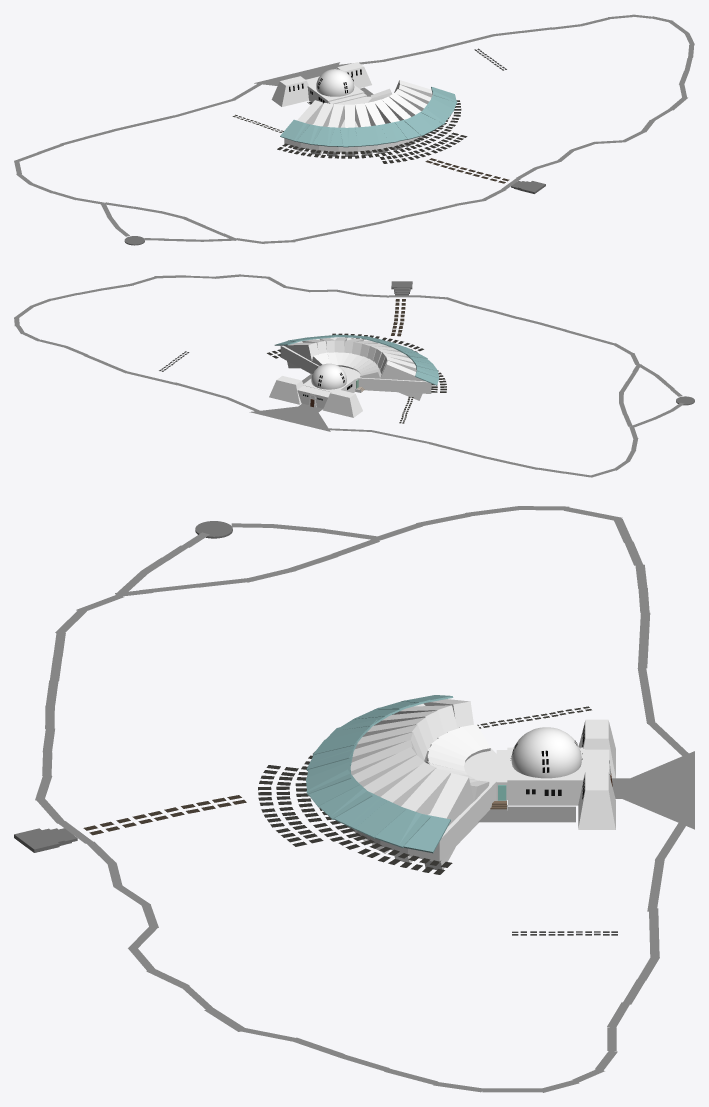
The model's file is asmundarsafn_nyasta_utgafa_8.4_12.58.obj.
3 renders of one model, top to bottom at view 1: azimuth 30°, elevation 25°; view 2: azimuth 150°, elevation 25°; view 3: azimuth 270°, elevation 25°, orthographic. The views are drawn at different scales.
Parts seen in each view (by area): view 1: Plane.001, der_yfir_thaki, thak, gangstett_i_kringum_hring, syningarsalur, Sphere, h_hlid, v_hlid, innanhus; view 2: Plane.001, thak, syningarsalur, der_yfir_thaki, h_hlid, Sphere, v_hlid, adaldyr, gangstett_i_kringum_hring; view 3: Plane.001, thak, der_yfir_thaki, gangstett_i_kringum_hring, syningarsalur, Sphere, innanhus, v_hlid, h_hlid, gangstett_ad_vatnsbera.
Part boxes in pixels (x1=…): Plane.001: x1=14, y1=14, x2=694, y2=245; der_yfir_thaki: x1=280, y1=86, x2=457, y2=147; thak: x1=293, y1=80, x2=432, y2=156; gangstett_i_kringum_hring: x1=277, y1=100, x2=467, y2=163; syningarsalur: x1=284, y1=96, x2=428, y2=152; Sphere: x1=316, y1=69, x2=354, y2=96; h_hlid: x1=271, y1=76, x2=308, y2=106; v_hlid: x1=336, y1=62, x2=371, y2=88; innanhus: x1=307, y1=83, x2=364, y2=103; Plane.001: x1=14, y1=274, x2=694, y2=477; thak: x1=284, y1=337, x2=424, y2=400; syningarsalur: x1=280, y1=337, x2=431, y2=393; der_yfir_thaki: x1=274, y1=334, x2=439, y2=385; h_hlid: x1=323, y1=389, x2=362, y2=417; Sphere: x1=311, y1=363, x2=346, y2=389; v_hlid: x1=269, y1=376, x2=303, y2=404; adaldyr: x1=297, y1=385, x2=330, y2=408; gangstett_i_kringum_hring: x1=267, y1=333, x2=446, y2=392; Plane.001: x1=14, y1=506, x2=694, y2=1092; thak: x1=350, y1=699, x2=490, y2=869; der_yfir_thaki: x1=306, y1=695, x2=453, y2=853; gangstett_i_kringum_hring: x1=258, y1=752, x2=452, y2=874; syningarsalur: x1=349, y1=703, x2=496, y2=862; Sphere: x1=511, y1=727, x2=581, y2=778; innanhus: x1=507, y1=747, x2=584, y2=805; v_hlid: x1=578, y1=771, x2=615, y2=829; h_hlid: x1=578, y1=719, x2=615, y2=778; gangstett_ad_vatnsbera: x1=83, y1=795, x2=246, y2=835.
Size of the model in its own units: 148 by 8.94 by 72.34.
